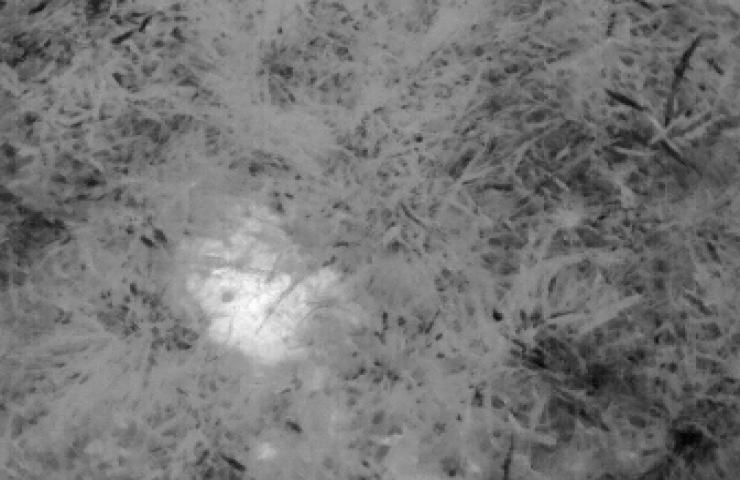landmines: (195, 255, 311, 367)
